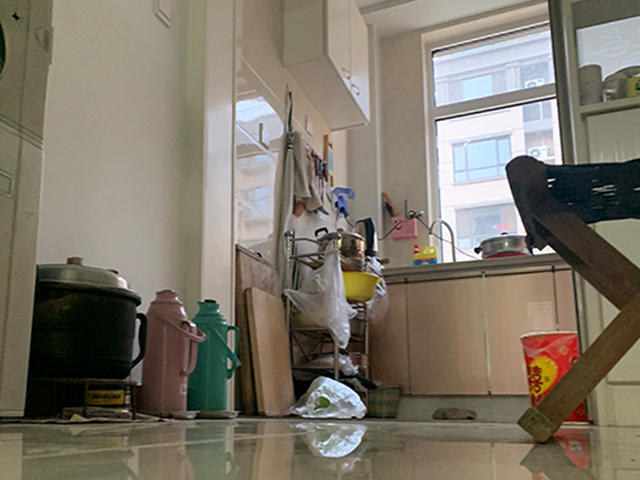cabinet: (373, 252, 575, 422)
stool: (505, 155, 640, 443)
trashcan: (520, 329, 589, 423)
